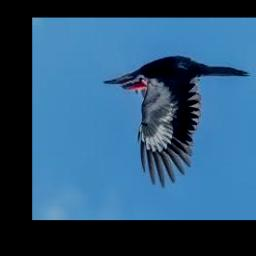Woodpecker: (103, 56, 251, 189)
